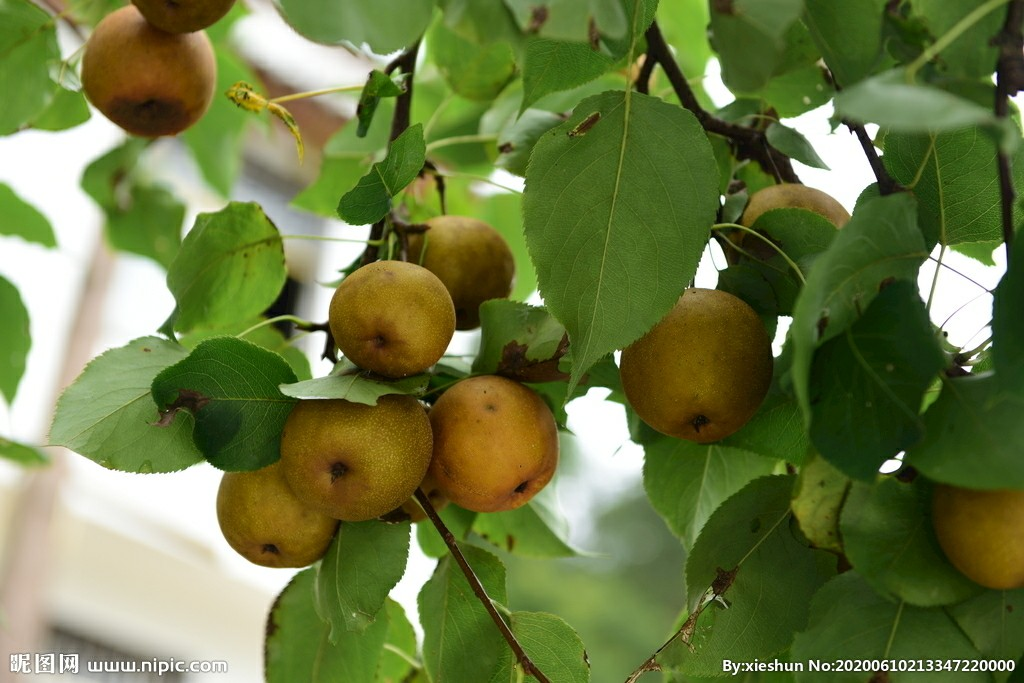pear: (622, 286, 772, 438), (282, 387, 435, 526), (81, 4, 216, 137), (432, 373, 560, 510), (218, 436, 339, 567), (736, 181, 854, 312), (329, 260, 456, 379), (396, 213, 513, 334), (930, 483, 1024, 589), (134, 1, 241, 38)
